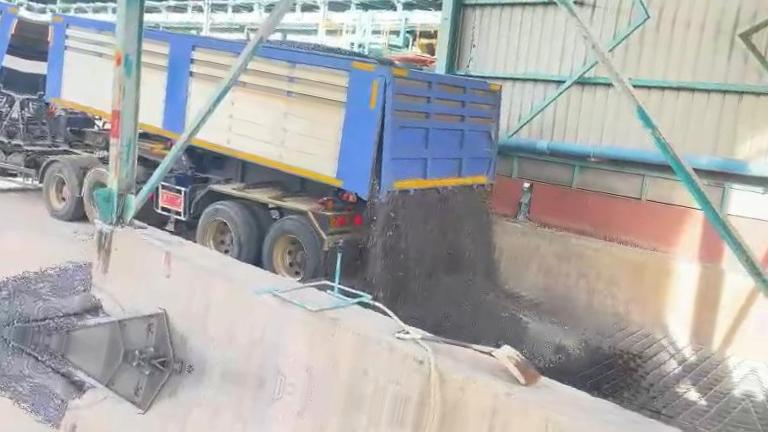gravel: (358, 187, 578, 365), (0, 261, 101, 326)
